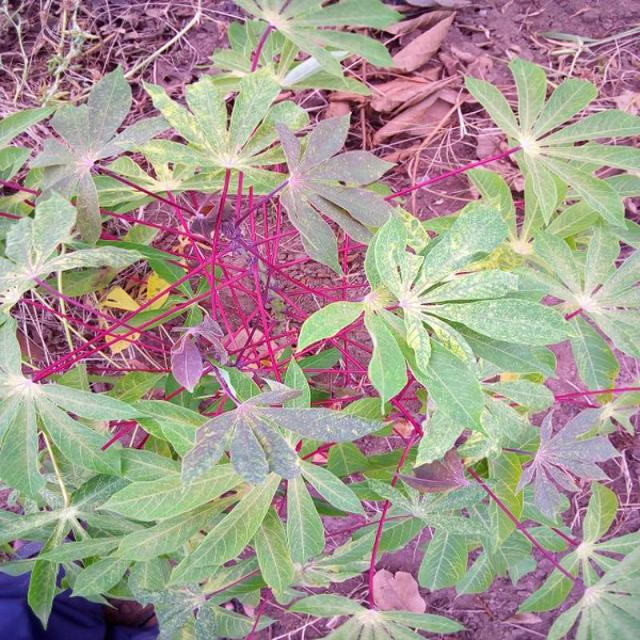cassava leaf: (0, 19, 638, 636)
